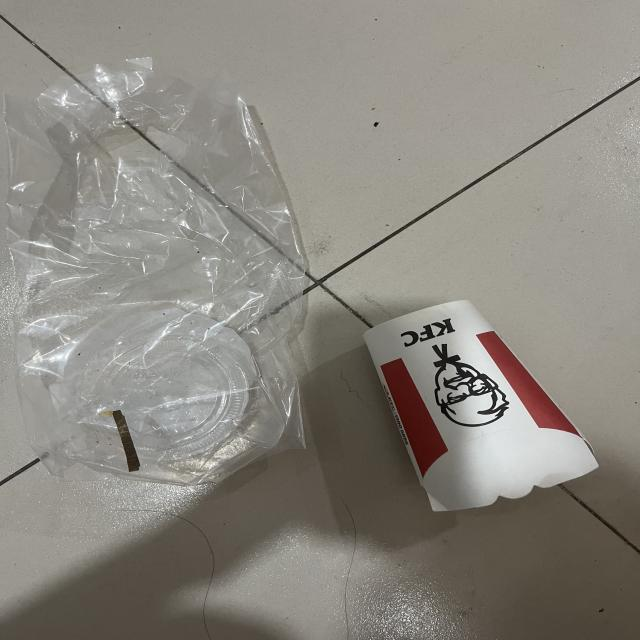bag: (7, 56, 309, 485)
cardboard box: (365, 294, 601, 506)
